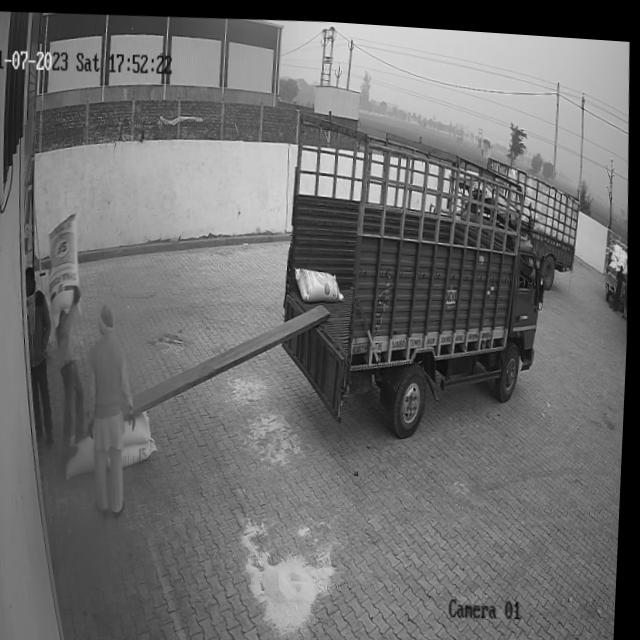sack: (46, 210, 86, 329), (295, 259, 344, 301), (68, 433, 101, 478), (126, 433, 162, 466), (126, 407, 155, 444)
